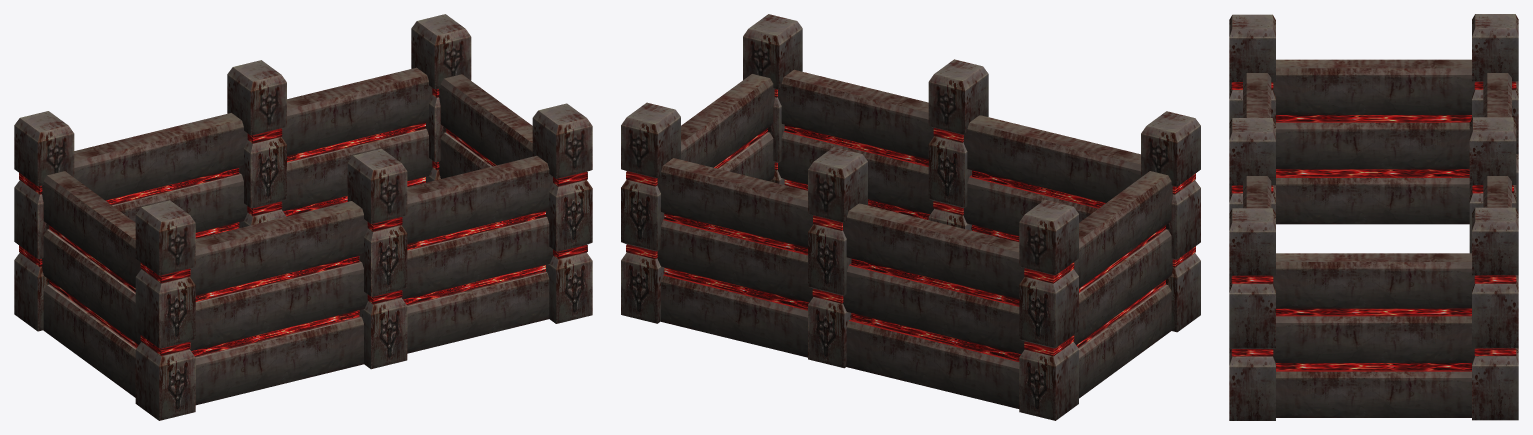
File: blsd_chizi_1.FBX
3 renders of one model, left to right at view 1: azimuth 30°, elevation 25°; view 2: azimuth 150°, elevation 25°; view 3: azimuth 270°, elevation 25°, orthographic.
Parts seen in each view (by area): view 1: blsd_chizi_01, blsd_chizi_02; view 2: blsd_chizi_01, blsd_chizi_02; view 3: blsd_chizi_01, blsd_chizi_02.
Boxes of the visible parts, x1=… form: blsd_chizi_01: x1=14, y1=14, x2=592, y2=420; blsd_chizi_02: x1=19, y1=88, x2=587, y2=356; blsd_chizi_01: x1=621, y1=14, x2=1200, y2=420; blsd_chizi_02: x1=626, y1=90, x2=1195, y2=360; blsd_chizi_01: x1=1229, y1=14, x2=1518, y2=420; blsd_chizi_02: x1=1231, y1=82, x2=1516, y2=370.
Size of the model in its own units: 271 by 157 by 118.
